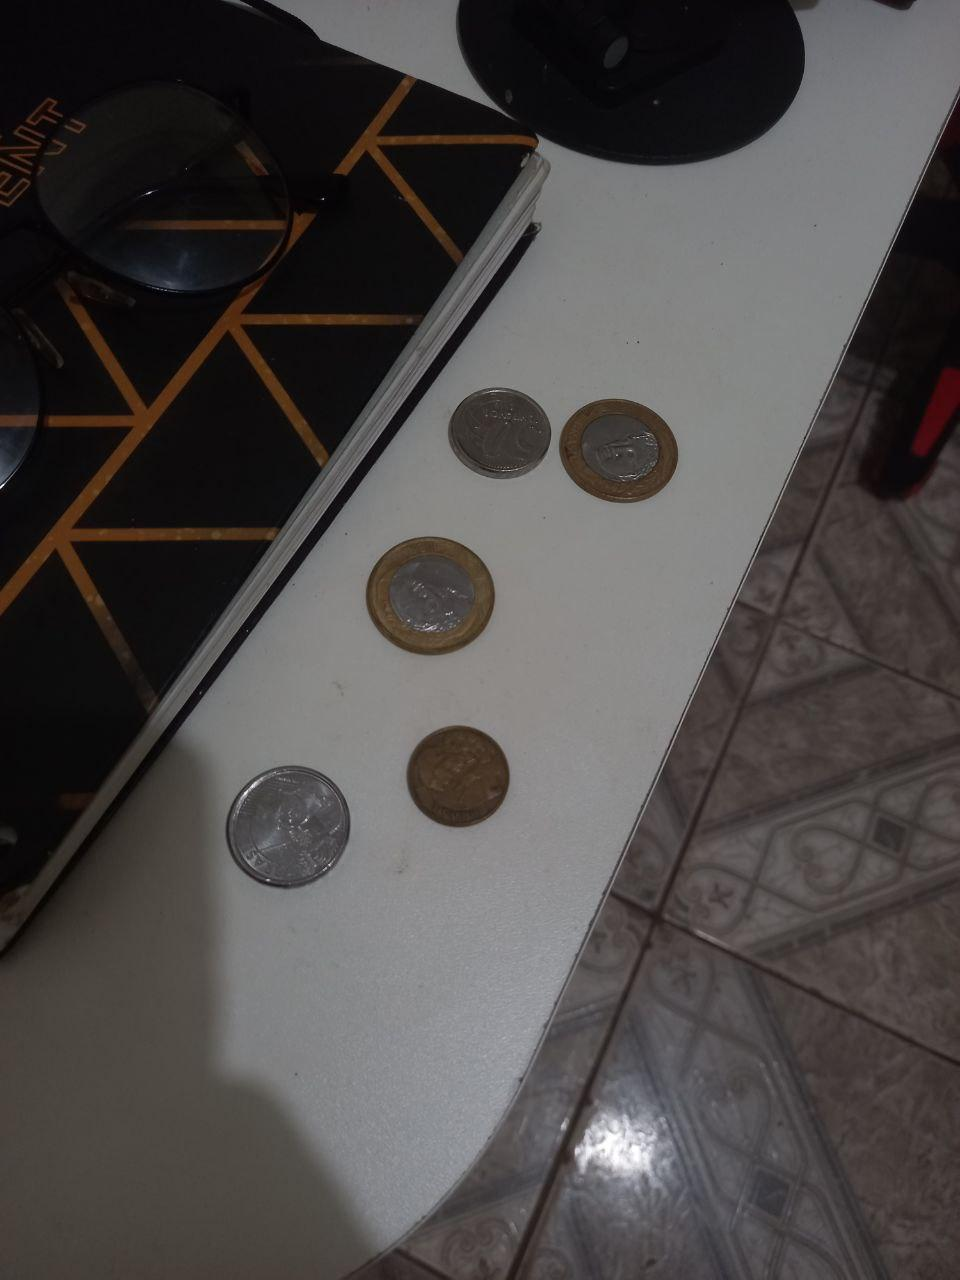1 real: (365, 535, 499, 658), (557, 395, 680, 504)
10 cent: (405, 726, 511, 828)
25 cent: (224, 765, 355, 889), (448, 386, 555, 480)
